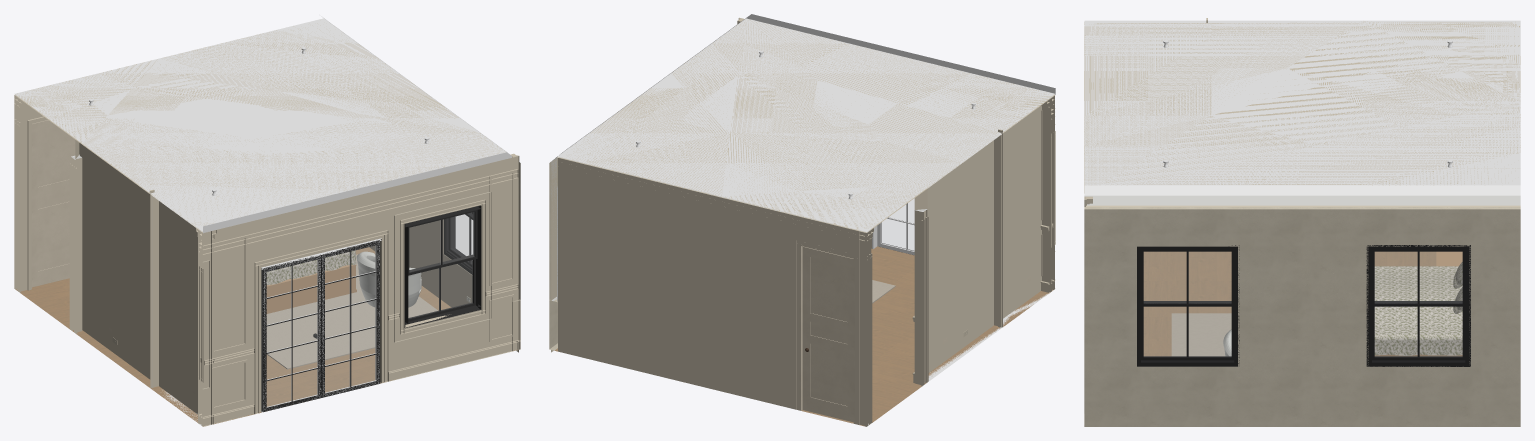
Rendered from primary-bedroom-c5618d5df27d.glb.
The picture shows the model from 3 angles, left to right: view 1: azimuth 30°, elevation 25°; view 2: azimuth 150°, elevation 25°; view 3: azimuth 270°, elevation 25°; orthographic projection. The views are drawn at different scales.
Parts seen in each view (by area): view 1: primary-bedroom-9d91b47435c6fb33, primary-bedroom-b0ade14315e4f1c3, primary-bedroom-e8793759323e04f0, primary-bedroom-0987656e6ddb83c1, primary-bedroom-fc6585fecfaf7ec3, primary-bedroom-e1735639a83d20d7, primary-bedroom-c791a0f218fead78, primary-bedroom-2575515a05775d9e, primary-bedroom-b7a870a0f6b43c8c, primary-bedroom-b0dbeb16b2b245ed, primary-bedroom-b5339e4b2b15762b, primary-bedroom-16d9002bc6318568 (+17 smaller); view 2: primary-bedroom-9d91b47435c6fb33, primary-bedroom-21ac2ed1b4475155, primary-bedroom-e8793759323e04f0, primary-bedroom-fc6585fecfaf7ec3, primary-bedroom-b7a870a0f6b43c8c, primary-bedroom-c791a0f218fead78, primary-bedroom-2575515a05775d9e, primary-bedroom-b0ade14315e4f1c3, primary-bedroom-9ecc0d558be1c706, primary-bedroom-0987656e6ddb83c1, primary-bedroom-780708765654f3c3, primary-bedroom-30f9d475162e2dd8 (+2 smaller); view 3: primary-bedroom-9d91b47435c6fb33, primary-bedroom-adb6f49a6d2cbec3, primary-bedroom-e8793759323e04f0, primary-bedroom-16d9002bc6318568, primary-bedroom-91f952a1d198b4a4, primary-bedroom-f5a37a5545b9d676, primary-bedroom-2575515a05775d9e, primary-bedroom-f68692b01f69d797, primary-bedroom-791abe15be22adf2, primary-bedroom-b0dbeb16b2b245ed, primary-bedroom-30f9d475162e2dd8.
Part boxes in pixels (x1=…): primary-bedroom-9d91b47435c6fb33: x1=14, y1=18, x2=511, y2=232; primary-bedroom-b0ade14315e4f1c3: x1=198, y1=155, x2=519, y2=426; primary-bedroom-e8793759323e04f0: x1=17, y1=16, x2=511, y2=231; primary-bedroom-0987656e6ddb83c1: x1=261, y1=238, x2=381, y2=412; primary-bedroom-fc6585fecfaf7ec3: x1=75, y1=140, x2=158, y2=387; primary-bedroom-e1735639a83d20d7: x1=404, y1=205, x2=481, y2=328; primary-bedroom-c791a0f218fead78: x1=151, y1=194, x2=211, y2=425; primary-bedroom-2575515a05775d9e: x1=15, y1=247, x2=518, y2=426; primary-bedroom-b7a870a0f6b43c8c: x1=32, y1=120, x2=75, y2=287; primary-bedroom-b0dbeb16b2b245ed: x1=266, y1=254, x2=437, y2=369; primary-bedroom-b5339e4b2b15762b: x1=202, y1=169, x2=518, y2=254; primary-bedroom-16d9002bc6318568: x1=369, y1=227, x2=520, y2=349; primary-bedroom-9d91b47435c6fb33: x1=557, y1=18, x2=1055, y2=232; primary-bedroom-21ac2ed1b4475155: x1=558, y1=157, x2=871, y2=426; primary-bedroom-e8793759323e04f0: x1=561, y1=14, x2=1055, y2=229; primary-bedroom-fc6585fecfaf7ec3: x1=914, y1=134, x2=1002, y2=382; primary-bedroom-b7a870a0f6b43c8c: x1=802, y1=246, x2=853, y2=422; primary-bedroom-c791a0f218fead78: x1=994, y1=106, x2=1052, y2=327; primary-bedroom-2575515a05775d9e: x1=551, y1=246, x2=1053, y2=426; primary-bedroom-b0ade14315e4f1c3: x1=738, y1=17, x2=1054, y2=292; primary-bedroom-9ecc0d558be1c706: x1=914, y1=209, x2=927, y2=384; primary-bedroom-0987656e6ddb83c1: x1=872, y1=199, x2=914, y2=255; primary-bedroom-780708765654f3c3: x1=799, y1=244, x2=854, y2=423; primary-bedroom-30f9d475162e2dd8: x1=550, y1=158, x2=556, y2=300; primary-bedroom-9d91b47435c6fb33: x1=1084, y1=20, x2=1520, y2=195; primary-bedroom-adb6f49a6d2cbec3: x1=1084, y1=207, x2=1520, y2=367; primary-bedroom-e8793759323e04f0: x1=1084, y1=21, x2=1520, y2=194; primary-bedroom-16d9002bc6318568: x1=1086, y1=367, x2=1520, y2=424; primary-bedroom-91f952a1d198b4a4: x1=1366, y1=245, x2=1470, y2=366; primary-bedroom-f5a37a5545b9d676: x1=1137, y1=245, x2=1239, y2=366; primary-bedroom-2575515a05775d9e: x1=1084, y1=251, x2=1520, y2=426; primary-bedroom-f68692b01f69d797: x1=1374, y1=266, x2=1462, y2=355; primary-bedroom-791abe15be22adf2: x1=1084, y1=195, x2=1520, y2=205; primary-bedroom-b0dbeb16b2b245ed: x1=1171, y1=313, x2=1231, y2=356; primary-bedroom-30f9d475162e2dd8: x1=1086, y1=205, x2=1520, y2=206.
Bounding box in the file's own units: 4.97 × 3.04 × 5.11.
37 materials, 7 textured.
